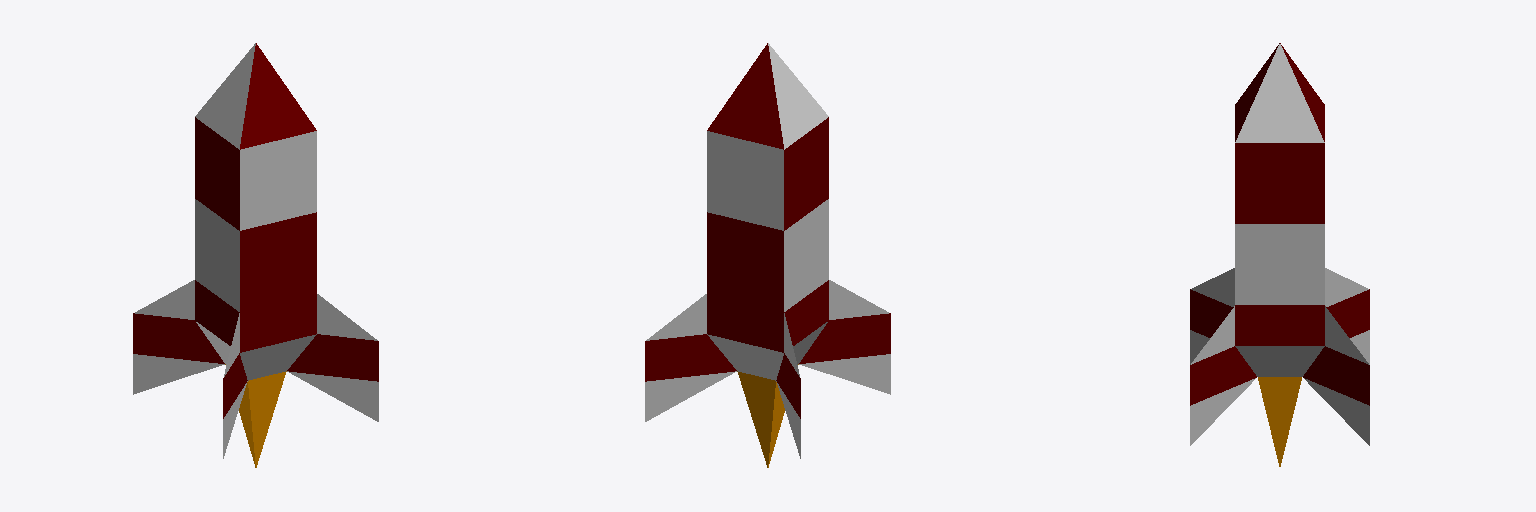
Rendered from v2fly.obj.
The picture shows the model from 3 angles: view 1: azimuth 30°, elevation 25°; view 2: azimuth 150°, elevation 25°; view 3: azimuth 270°, elevation 25°; orthographic projection.
Visible parts, largest first — view 1: Cube; view 2: Cube; view 3: Cube.
Boxes of the visible parts, x1,y1,x2,y2 form: Cube: [133, 43, 378, 467]; Cube: [645, 43, 890, 467]; Cube: [1190, 43, 1369, 466].
Bounding box in the file's own units: 0.8 × 2.1 × 0.8.